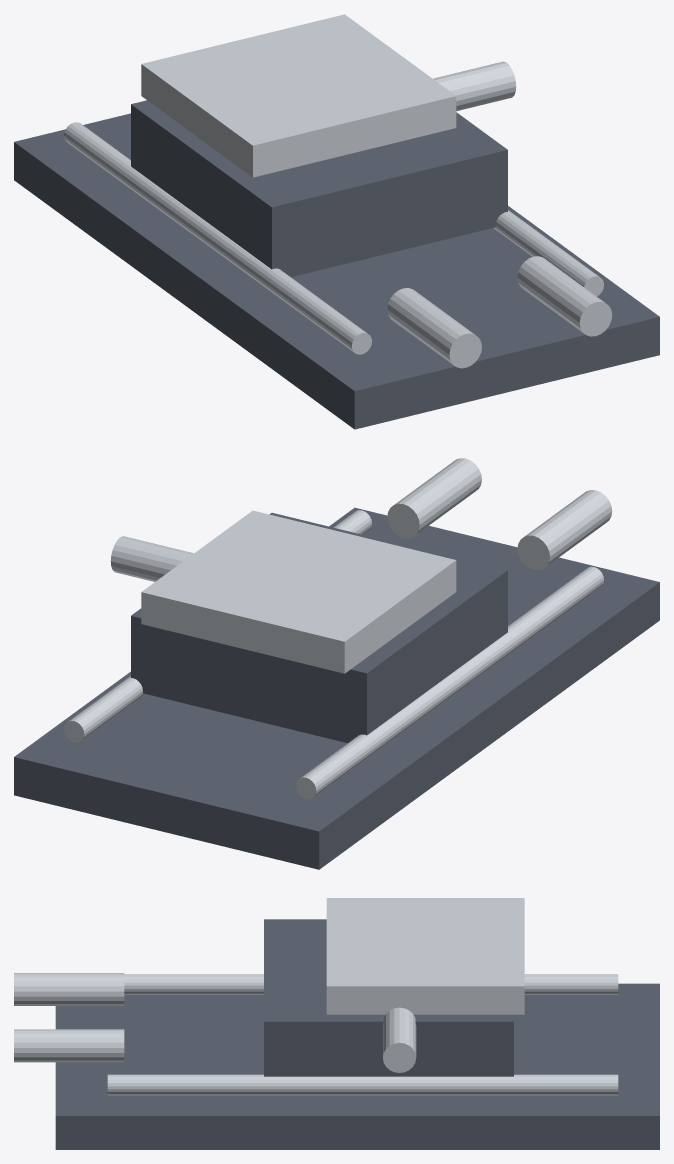
Rendered from chip-dut-translation-stage-v1.glb.
3 views of the same model, one above another, from view 1: azimuth 30°, elevation 25°; view 2: azimuth 150°, elevation 25°; view 3: azimuth 270°, elevation 25° (orthographic). The views are drawn at different scales.
Parts seen in each view (by area): view 1: black base, black carriage, silver DUT mounting deck, silver guide rail (×2), silver differential drive (×2), silver side micrometer; view 2: black base, silver DUT mounting deck, black carriage, silver guide rail (×2), silver differential drive (×2), silver side micrometer; view 3: black base, silver DUT mounting deck, black carriage, silver guide rail (×2), silver differential drive (×2), silver side micrometer.
Boxes of the visible parts, x1,y1,x2,y2 form: black base: (14, 113, 659, 429); black carriage: (131, 100, 507, 277); silver DUT mounting deck: (141, 14, 456, 177); silver guide rail (×2): (64, 122, 603, 354); silver differential drive (×2): (387, 256, 612, 368); silver side micrometer: (433, 61, 516, 111); black base: (14, 507, 659, 869); silver DUT mounting deck: (141, 510, 456, 673); black carriage: (131, 512, 507, 743); silver guide rail (×2): (64, 510, 603, 799); silver differential drive (×2): (387, 458, 612, 570); silver side micrometer: (110, 536, 193, 581); black base: (55, 983, 659, 1149); silver DUT mounting deck: (326, 898, 524, 1014); black carriage: (264, 919, 513, 1076); silver guide rail (×2): (107, 974, 618, 1095); silver differential drive (×2): (14, 973, 124, 1062); silver side micrometer: (383, 1007, 416, 1072).
Bounding box in the file's own units: 0.17 × 0.075 × 0.31.
